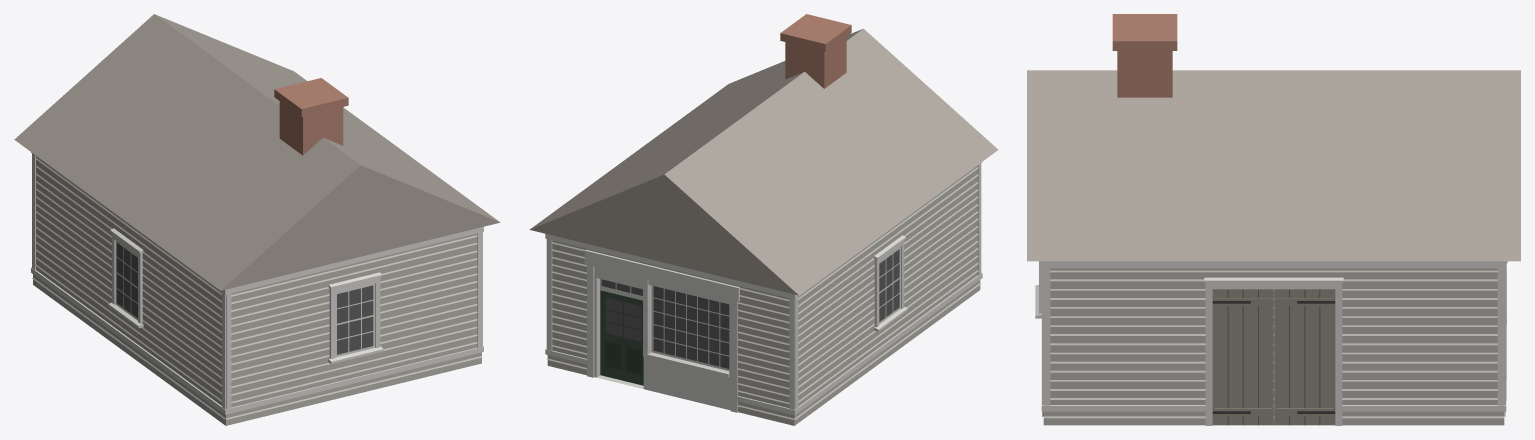
Rendered from recon_1835_blk_lake_clark_c1_01__inferred_1835.glb.
3 renders of one model, left to right at view 1: azimuth 30°, elevation 25°; view 2: azimuth 150°, elevation 25°; view 3: azimuth 270°, elevation 25°, orthographic. The views are drawn at different scales.
Parts seen in each view (by area): view 1: recon_1835_blk_lake_clark_c1_01__inferred_1835; view 2: recon_1835_blk_lake_clark_c1_01__inferred_1835; view 3: recon_1835_blk_lake_clark_c1_01__inferred_1835.
Boxes of the visible parts, x1,y1,x2,y2 form: recon_1835_blk_lake_clark_c1_01__inferred_1835: (14, 14, 500, 425); recon_1835_blk_lake_clark_c1_01__inferred_1835: (529, 14, 998, 425); recon_1835_blk_lake_clark_c1_01__inferred_1835: (1027, 14, 1520, 425).
Size of the model in its own units: 5.84 by 5.39 by 7.47.
